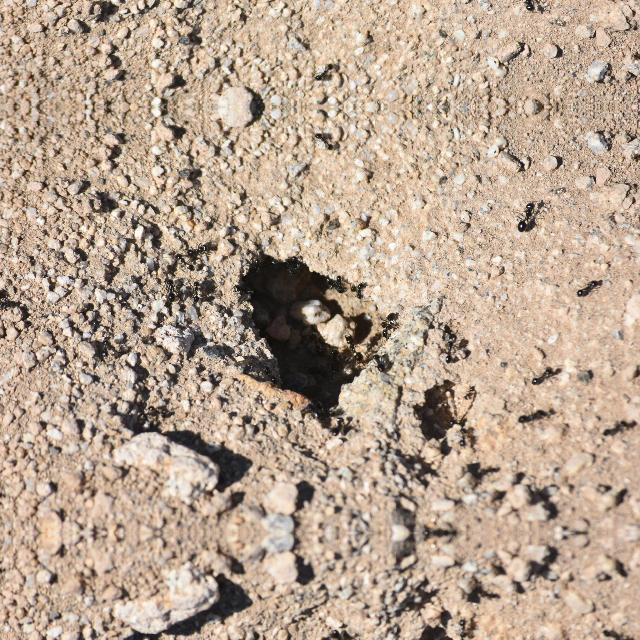Messor: (564, 264, 612, 306), (503, 195, 542, 237), (527, 354, 563, 398), (603, 413, 639, 445), (518, 406, 560, 429), (438, 333, 466, 362), (326, 414, 358, 438), (316, 128, 340, 158), (603, 620, 639, 640), (316, 54, 340, 84), (503, 0, 542, 17), (377, 324, 413, 342), (170, 253, 200, 273), (192, 278, 208, 314), (346, 339, 368, 363), (457, 614, 477, 640), (186, 240, 218, 256), (457, 426, 477, 450), (371, 354, 395, 374), (326, 626, 358, 640), (250, 254, 270, 276), (97, 338, 113, 362), (369, 312, 395, 326), (289, 250, 303, 276), (264, 364, 282, 384), (231, 280, 253, 296), (327, 274, 343, 294), (131, 400, 157, 412), (354, 282, 368, 302), (167, 276, 176, 306), (448, 416, 472, 426), (335, 350, 351, 364), (517, 635, 560, 640), (267, 254, 281, 268), (336, 272, 346, 290), (310, 406, 330, 414)
